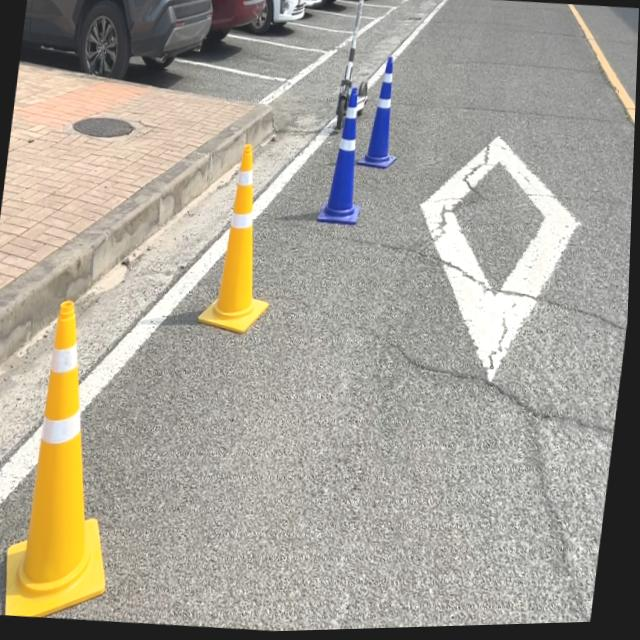b_rub: (319, 87, 362, 226), (359, 57, 398, 169)
y_rub: (9, 300, 109, 616), (200, 144, 270, 334)
